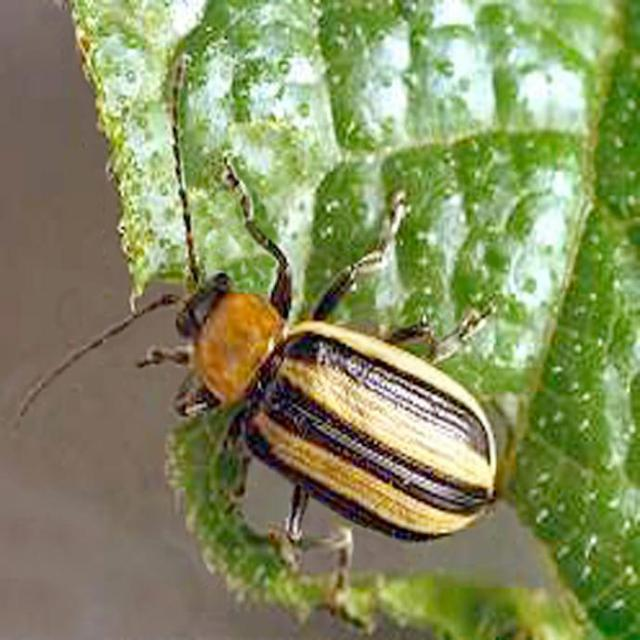trips: (13, 59, 500, 634)
